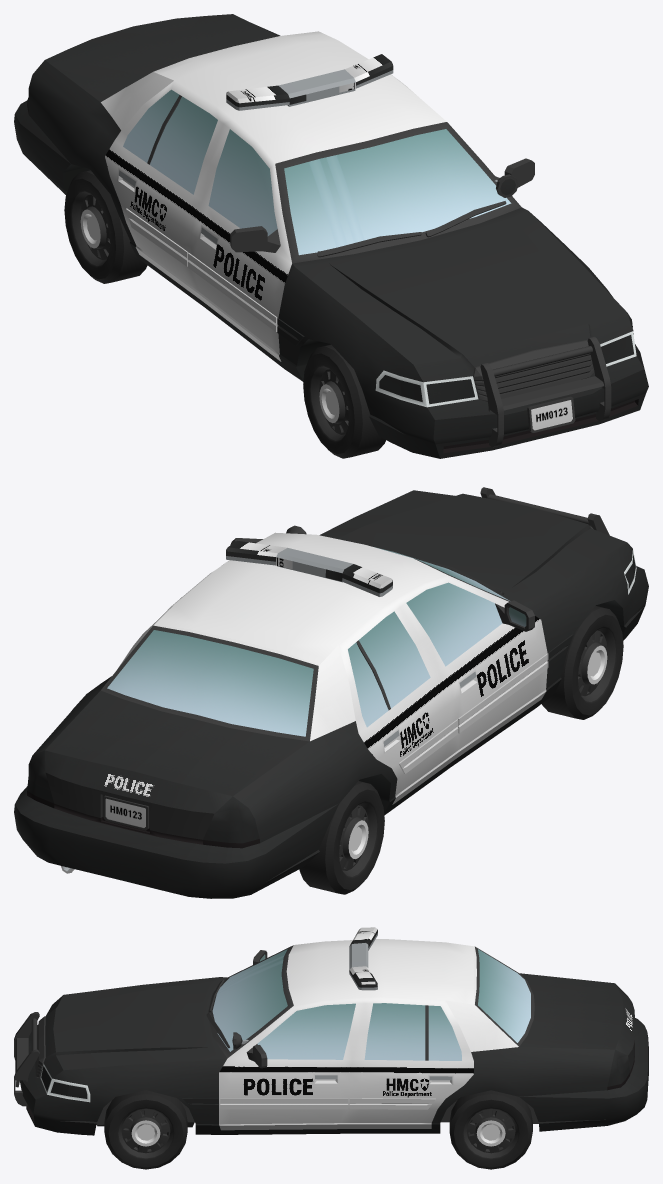
The model's file is carro_policia.glb.
3 renders of one model, top to bottom at view 1: azimuth 30°, elevation 25°; view 2: azimuth 150°, elevation 25°; view 3: azimuth 270°, elevation 25°, orthographic. The views are drawn at different scales.
Parts seen in each view (by area): view 1: Police_S, PS_WheelFR, PS_Wheels_B, PoliceS_light; view 2: Police_S, PS_Wheels_B, PS_WheelFR, PoliceS_light; view 3: Police_S, PS_WheelFL, PS_Wheels_B, PoliceS_light.
Part boxes in pixels (x1=…): Police_S: x1=14, y1=14, x2=648, y2=458; PS_WheelFR: x1=303, y1=344, x2=385, y2=458; PS_Wheels_B: x1=64, y1=170, x2=147, y2=283; PoliceS_light: x1=226, y1=54, x2=393, y2=110; Police_S: x1=14, y1=487, x2=648, y2=898; PS_Wheels_B: x1=299, y1=781, x2=384, y2=894; PS_WheelFR: x1=542, y1=606, x2=623, y2=719; PoliceS_light: x1=226, y1=540, x2=392, y2=596; Police_S: x1=14, y1=939, x2=648, y2=1135; PS_WheelFL: x1=104, y1=1090, x2=187, y2=1169; PS_Wheels_B: x1=449, y1=1090, x2=532, y2=1169; PoliceS_light: x1=349, y1=927, x2=377, y2=990.
Bounding box in the file's own units: 2.16 × 1.59 × 5.41.
Materials: 4 (4 with a texture image).
